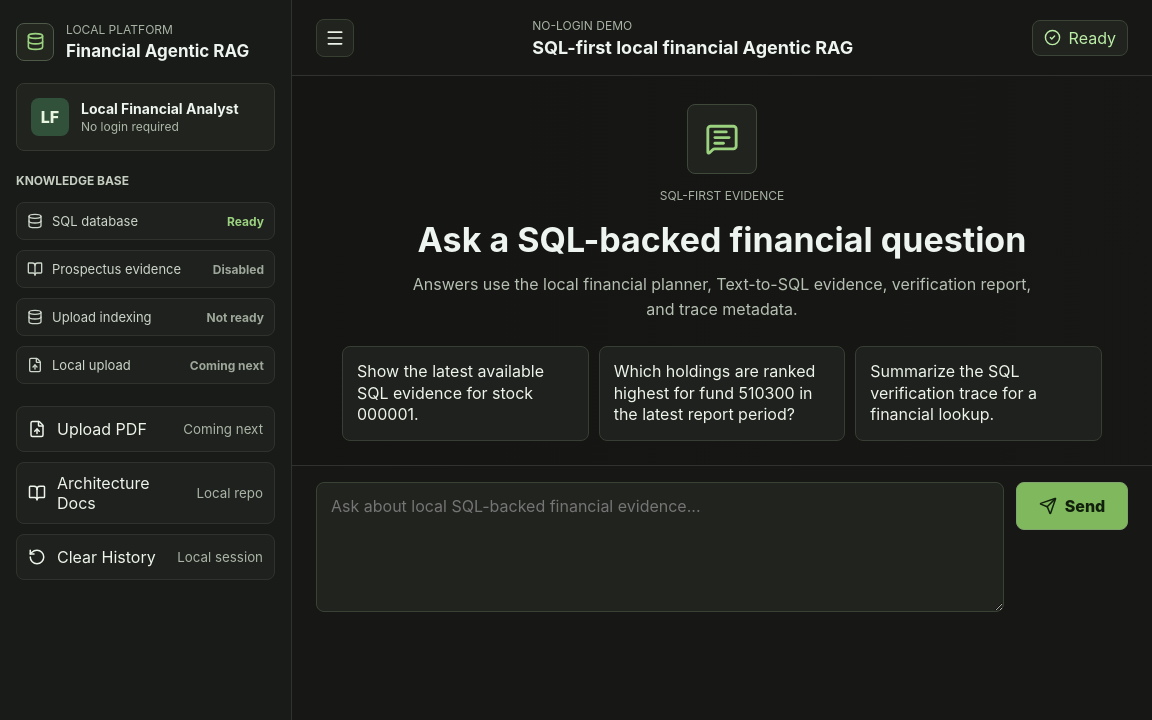
Test: local financial platform UI › clears visible history through the local endpoint
The width and height of the screenshot is (1152, 720).
Type "Show revenue" into the text box named "Financial question" at (660, 547), box [316,482,1004,612]
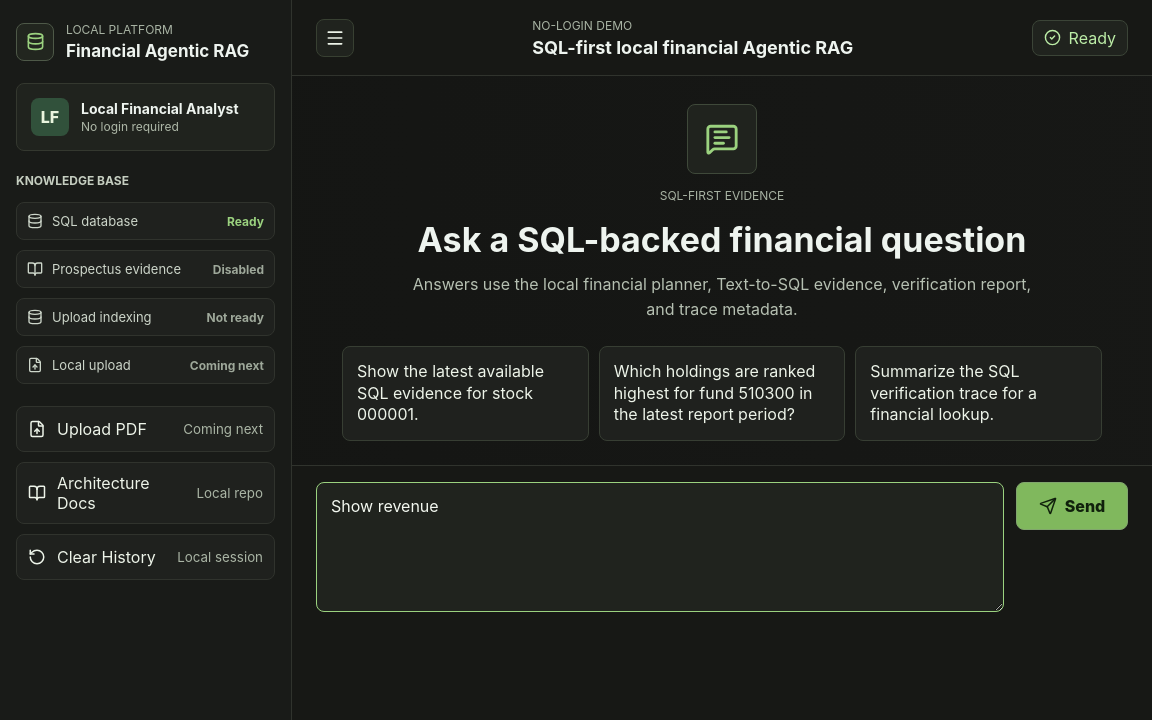
Click the button with aria-label "Send question" at (1072, 506), box [1016,482,1128,530]
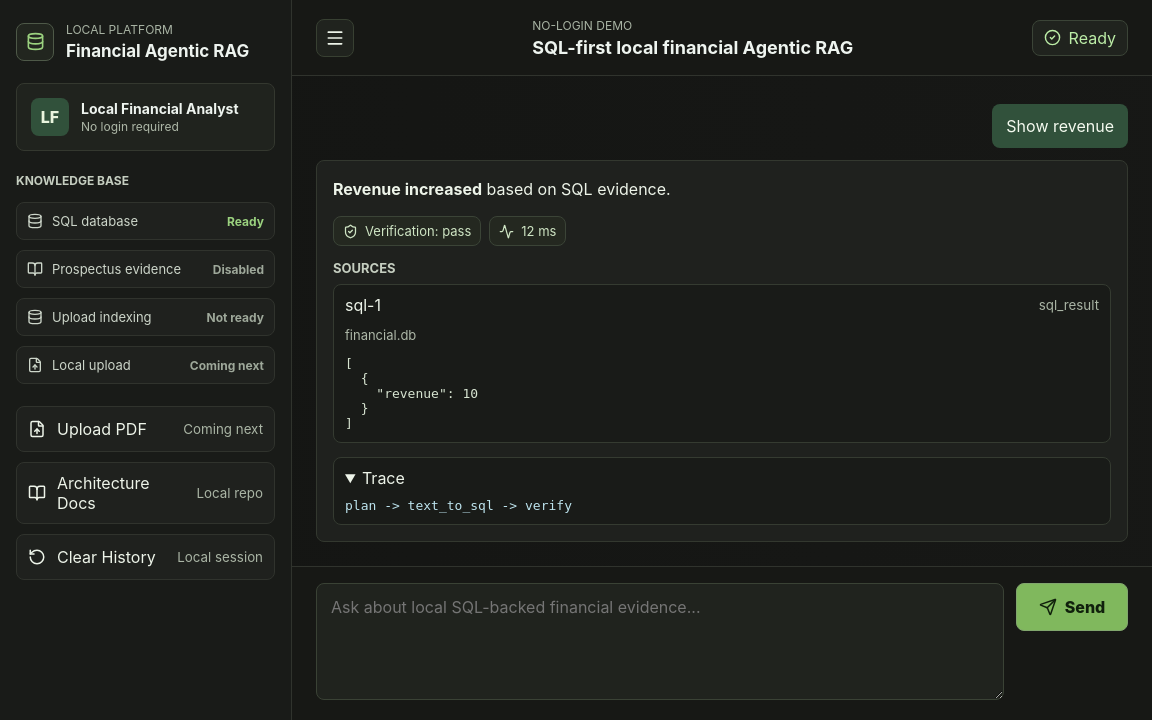
Expected: the text "Show revenue" is shown, [992,104,1128,148]
Click the button "Clear History Local session" at (146, 557), box [16,534,275,580]
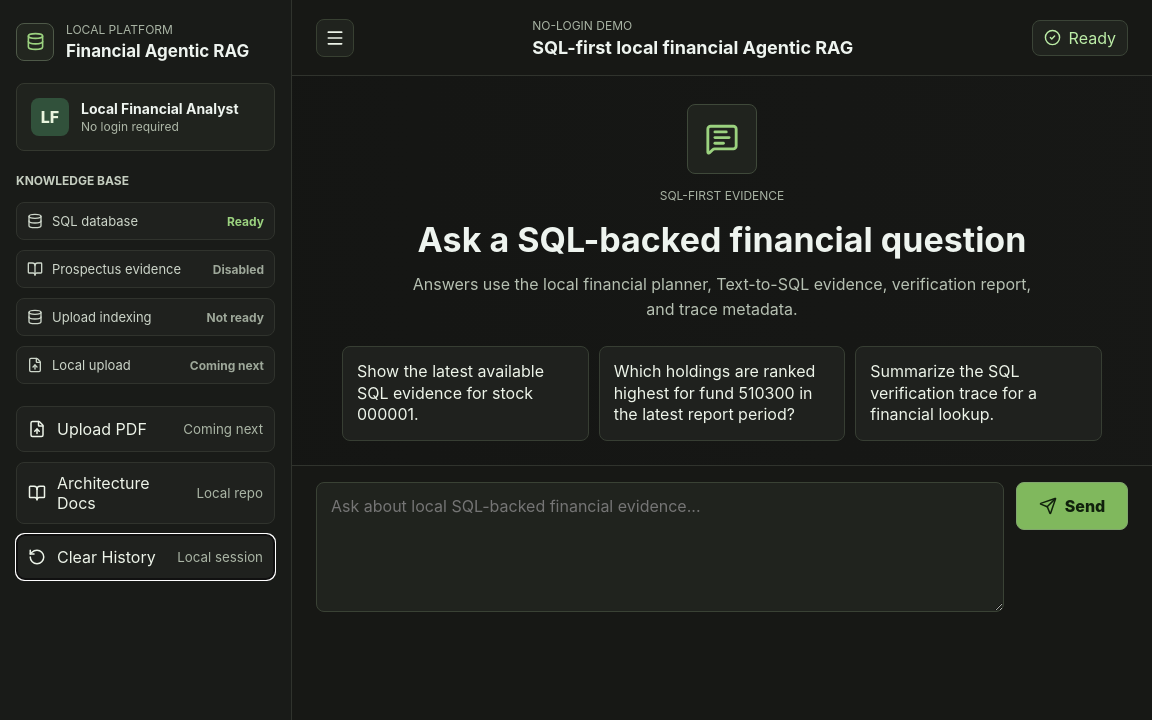
Expected: the text "Show revenue" is gone
